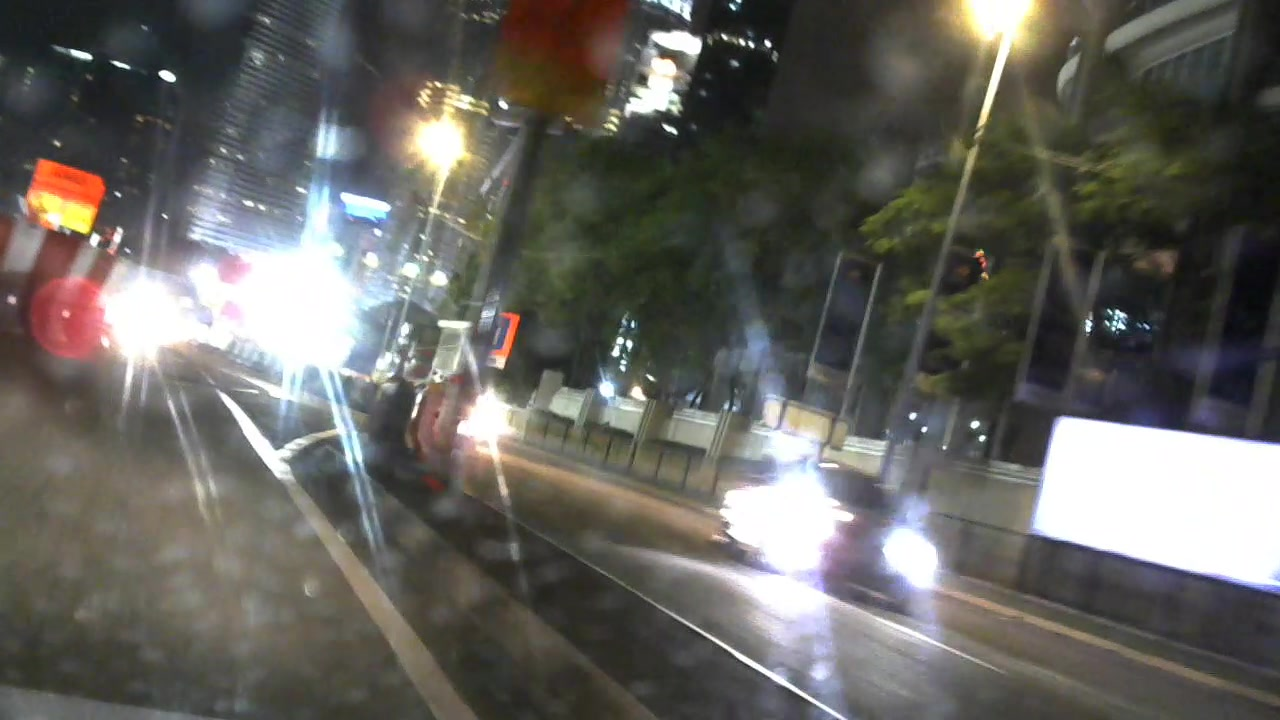Car: (705, 449, 916, 616)
